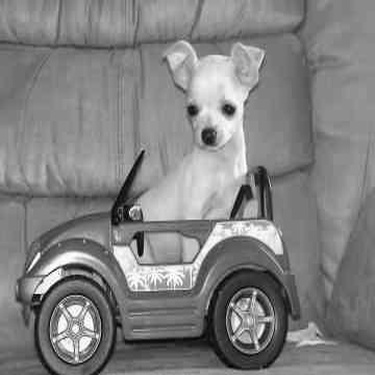dog: (110, 33, 268, 273)
